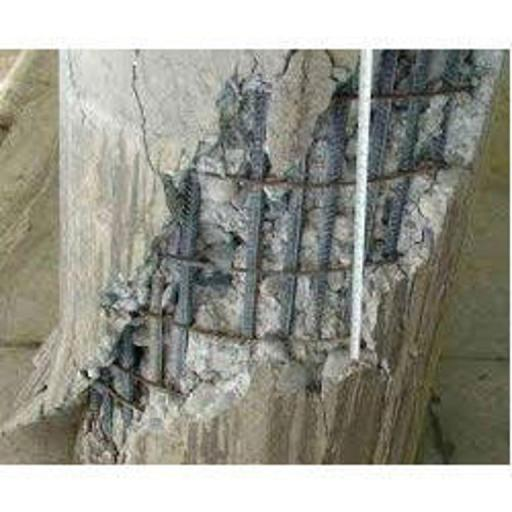spalling: (78, 56, 480, 437)
